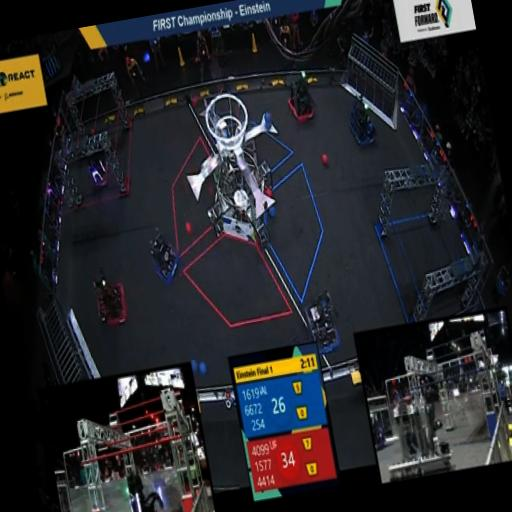robot: (293, 280, 347, 362), (83, 262, 135, 338), (137, 217, 185, 291), (336, 84, 380, 156), (275, 64, 321, 130), (77, 136, 113, 194)
